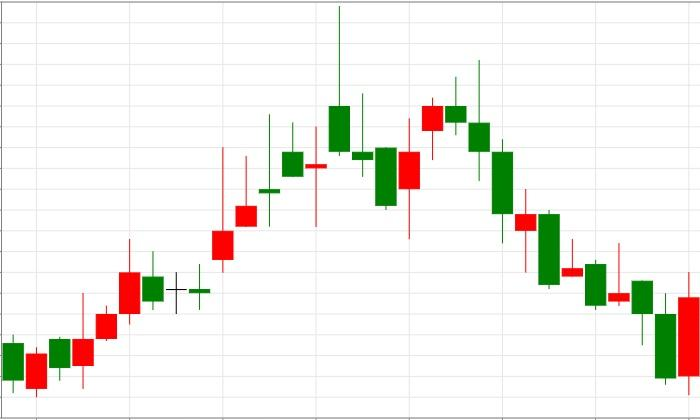bullish_engulfing_rise: (445, 58, 700, 395)
shooting_star_fall: (72, 146, 234, 388)
three_black_crows_fall: (374, 59, 513, 243)
